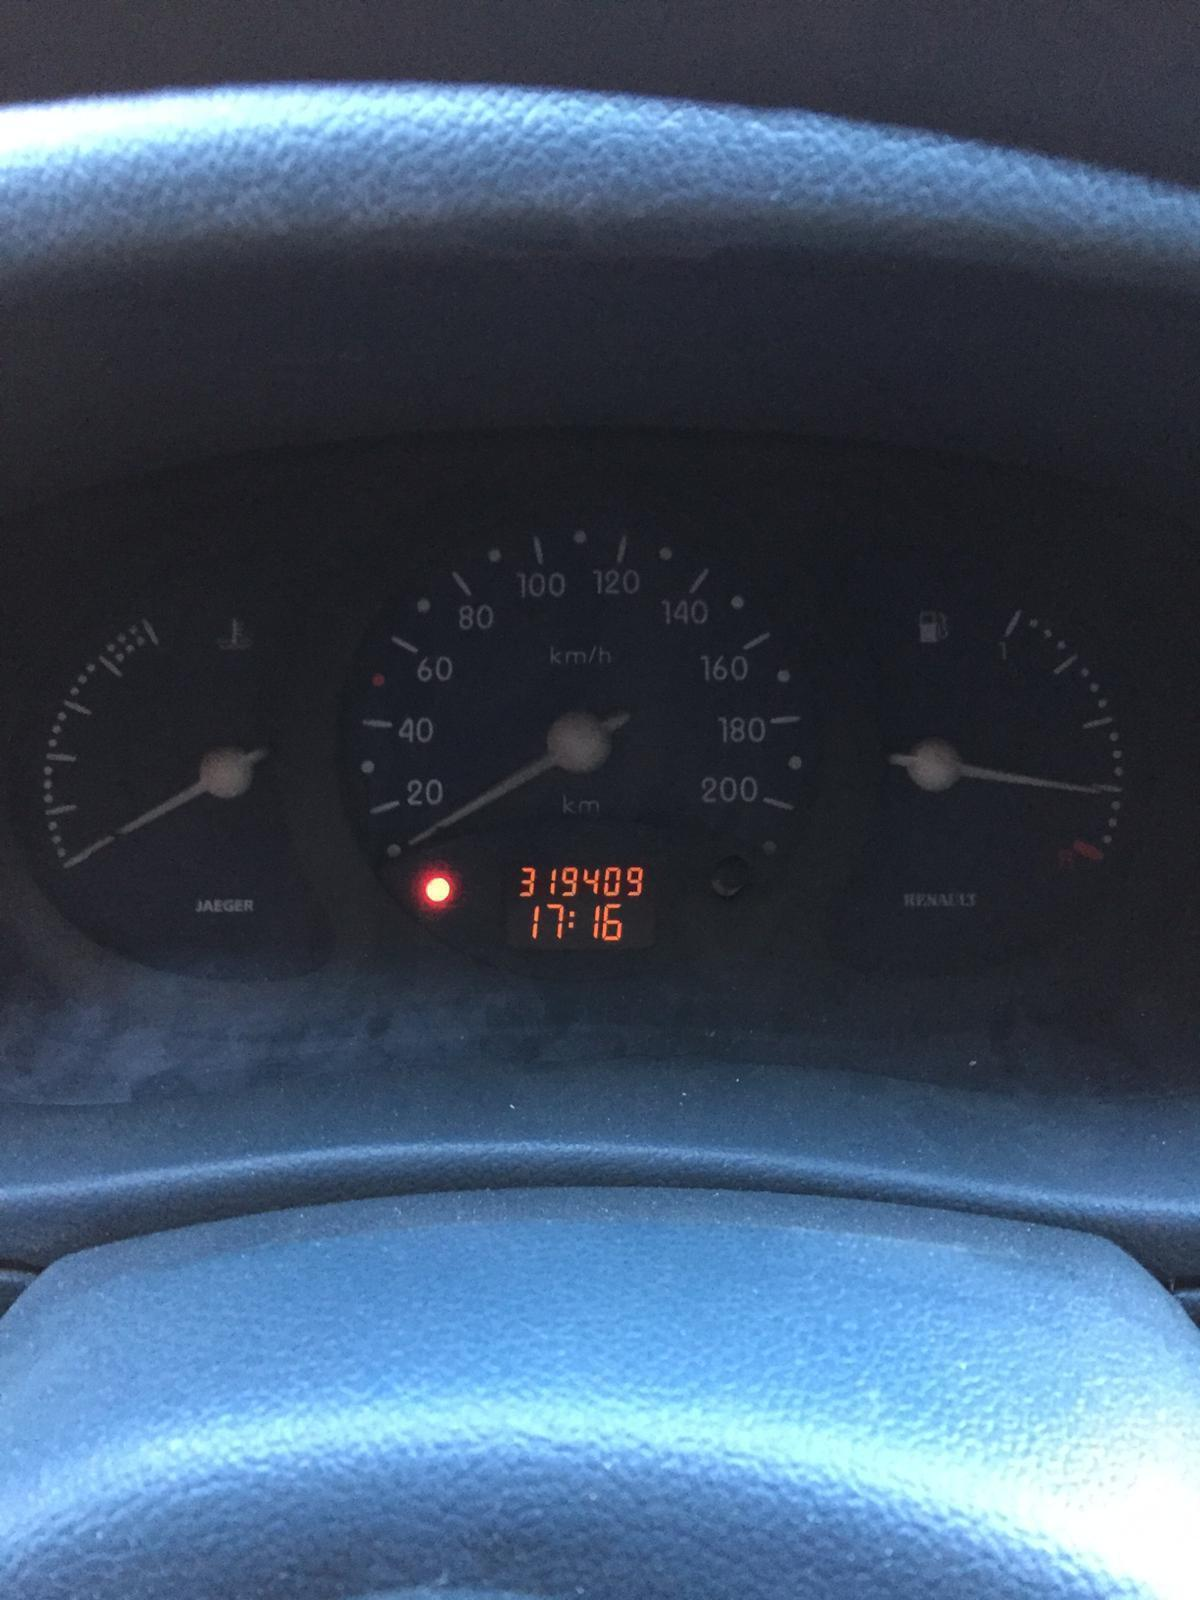0: (603, 866, 621, 896)
1: (531, 905, 539, 940), (592, 905, 600, 939), (550, 868, 557, 896)
3: (519, 866, 534, 896)
4: (582, 867, 600, 894)
6: (601, 903, 621, 941)
7: (545, 903, 563, 940)
9: (561, 866, 579, 897), (625, 866, 643, 896)
X: (567, 910, 575, 929)
odometer: (499, 855, 664, 954)
